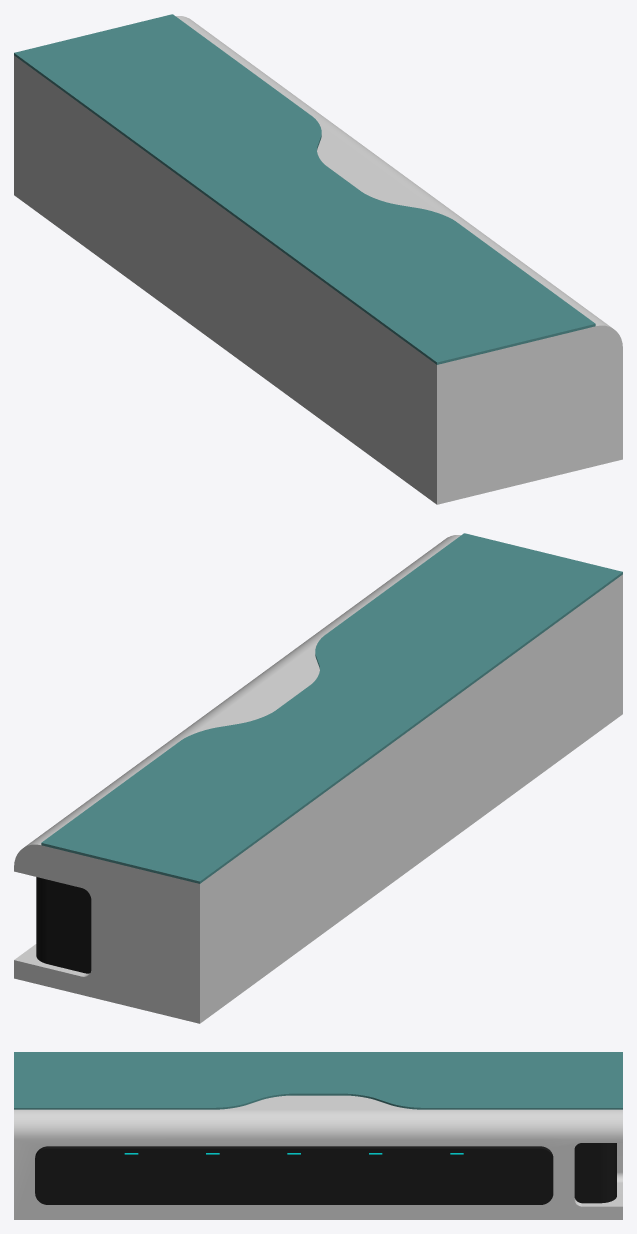
File: KitchenTop_Mesh.fbx
The picture shows the model from 3 angles, top to bottom: view 1: azimuth 30°, elevation 25°; view 2: azimuth 150°, elevation 25°; view 3: azimuth 270°, elevation 25°; orthographic projection. The views are drawn at different scales.
Parts seen in each view (by area): view 1: KitchenTop_Mesh; view 2: KitchenTop_Mesh; view 3: KitchenTop_Mesh.
Part boxes in pixels (x1,y1,x2,y2): KitchenTop_Mesh: [14, 14, 622, 504]; KitchenTop_Mesh: [14, 533, 622, 1023]; KitchenTop_Mesh: [14, 1052, 622, 1219].
Size of the model in its own units: 163 by 115 by 620.
